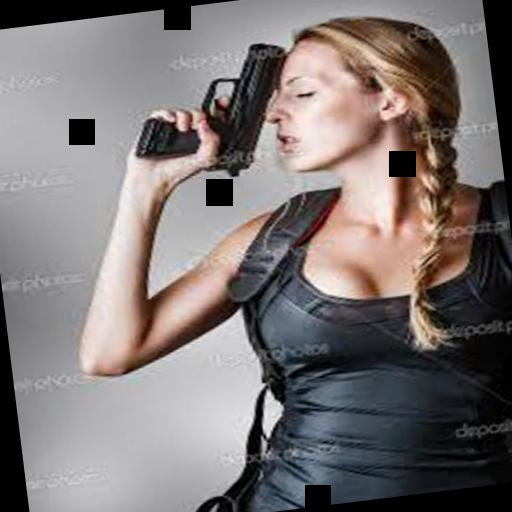Handgun: (121, 38, 295, 184)
